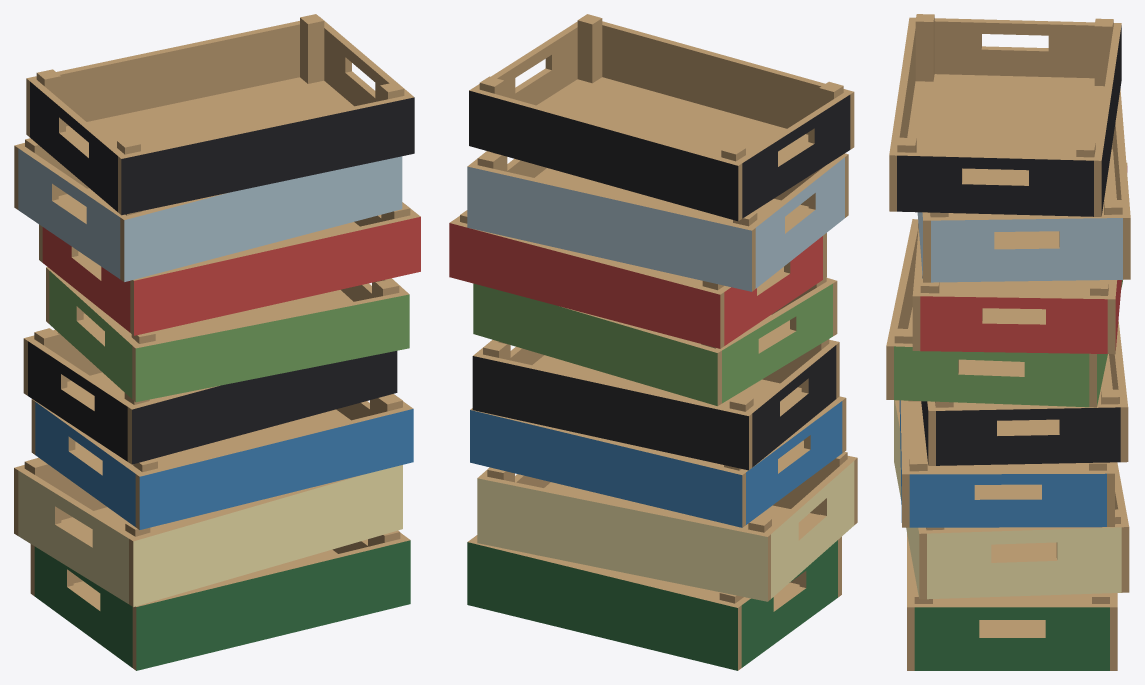
Rendered from Prop_TrayStack.fbx.
3 views of the same model, side by side, from view 1: azimuth 30°, elevation 25°; view 2: azimuth 150°, elevation 25°; view 3: azimuth 270°, elevation 25° (orthographic).
Visible parts, largest first — view 1: Prop_TrayStack; view 2: Prop_TrayStack; view 3: Prop_TrayStack.
Part boxes in pixels (x1,y1,x2,y2): Prop_TrayStack: (14,14,420,670); Prop_TrayStack: (449,14,857,670); Prop_TrayStack: (886,14,1130,670).
Bounding box in the file's own units: 1.42 × 2.23 × 0.9487.
